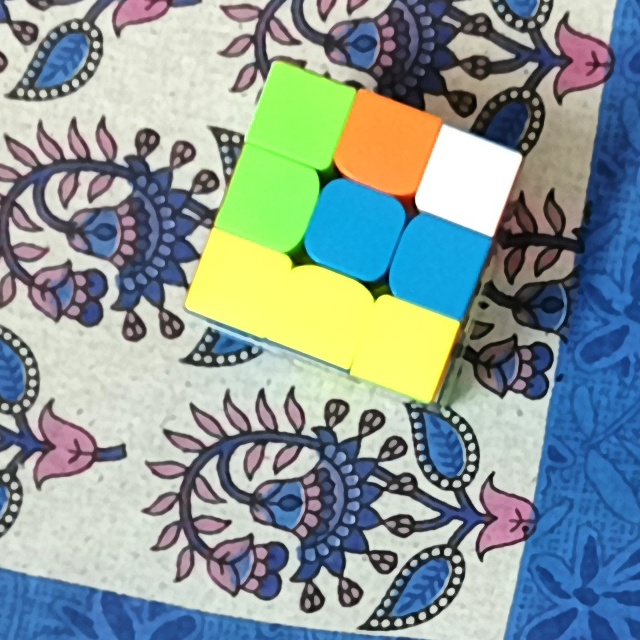tile: (239, 167, 308, 236), (435, 147, 504, 211), (408, 231, 473, 298), (355, 108, 416, 178), (370, 314, 441, 371), (326, 200, 388, 265), (203, 254, 267, 312), (268, 87, 333, 144), (292, 283, 352, 343)
